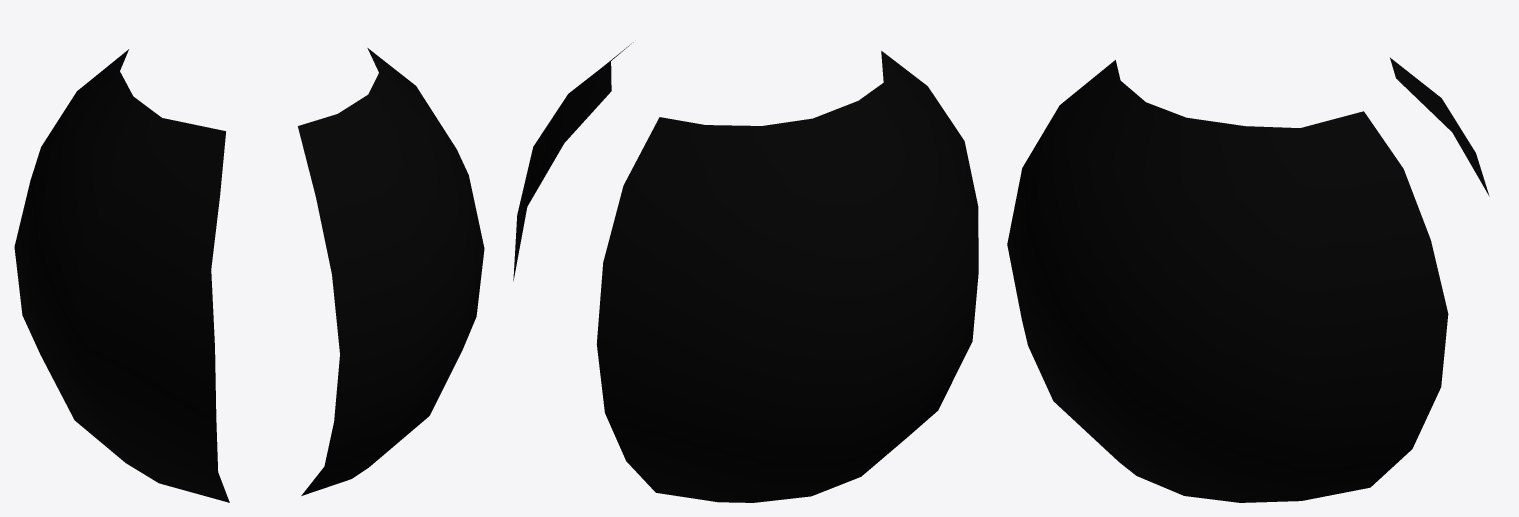
File: bubble_solid_house1.glb
3 views of the same model, side by side, from view 1: azimuth 30°, elevation 25°; view 2: azimuth 150°, elevation 25°; view 3: azimuth 270°, elevation 25° (orthographic).
Visible parts, largest first — view 1: bubble_solid_texture.png__; view 2: bubble_solid_texture.png__; view 3: bubble_solid_texture.png__.
Part boxes in pixels (x1,y1,x2,y2): bubble_solid_texture.png__: (14,48,484,502); bubble_solid_texture.png__: (513,42,978,502); bubble_solid_texture.png__: (1007,57,1489,502).
Size of the model in its own units: 6.34 by 5.61 by 6.68.
Materials: 1 (1 with a texture image).
